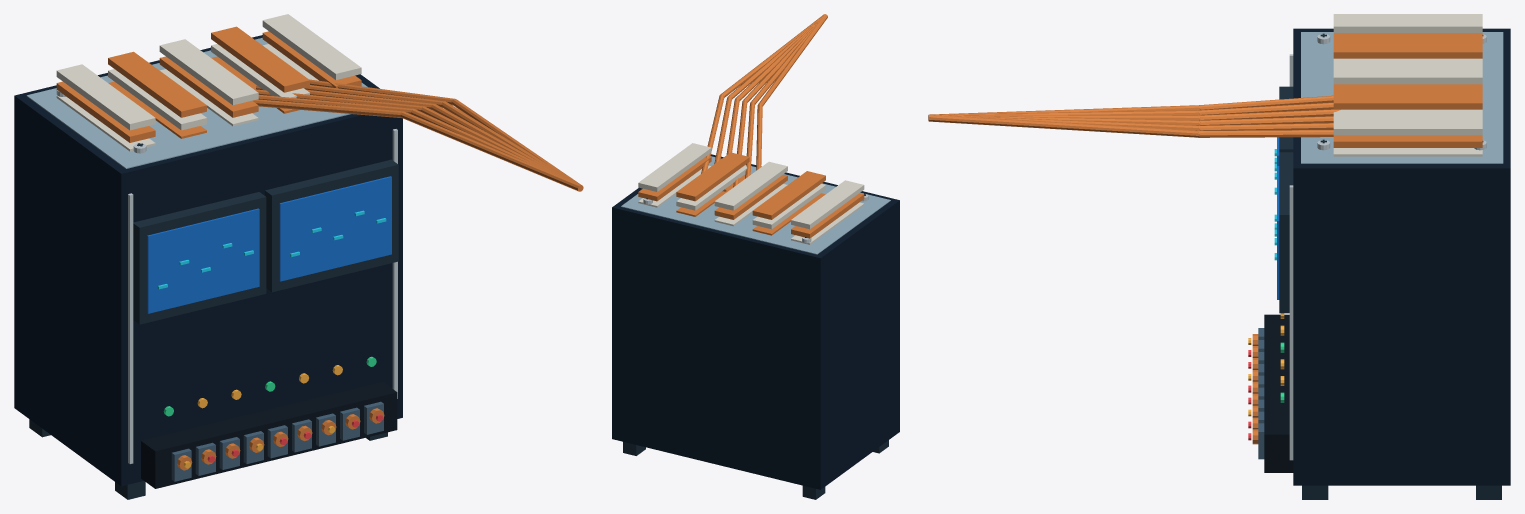
File: 07_L75_VirtualHighVoltagePowerCabinet.fbx
3 views of the same model, side by side, from view 1: azimuth 30°, elevation 25°; view 2: azimuth 150°, elevation 25°; view 3: azimuth 270°, elevation 25° (orthographic). The views are drawn at different scales.
Visible parts, largest first — view 1: VirtualHighVoltagePowerCabinet; view 2: VirtualHighVoltagePowerCabinet; view 3: VirtualHighVoltagePowerCabinet.
Boxes of the visible parts, x1,y1,x2,y2 form: VirtualHighVoltagePowerCabinet: (14,14,583,499); VirtualHighVoltagePowerCabinet: (612,14,899,499); VirtualHighVoltagePowerCabinet: (928,14,1510,499).
Bounding box in the file's own units: 169 × 214 × 289.
